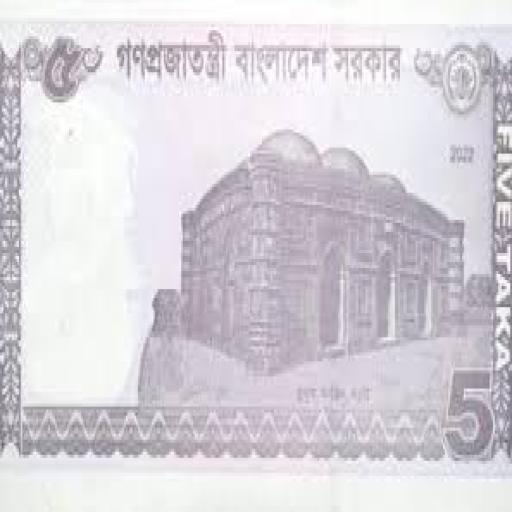5taka: (0, 18, 510, 473)
